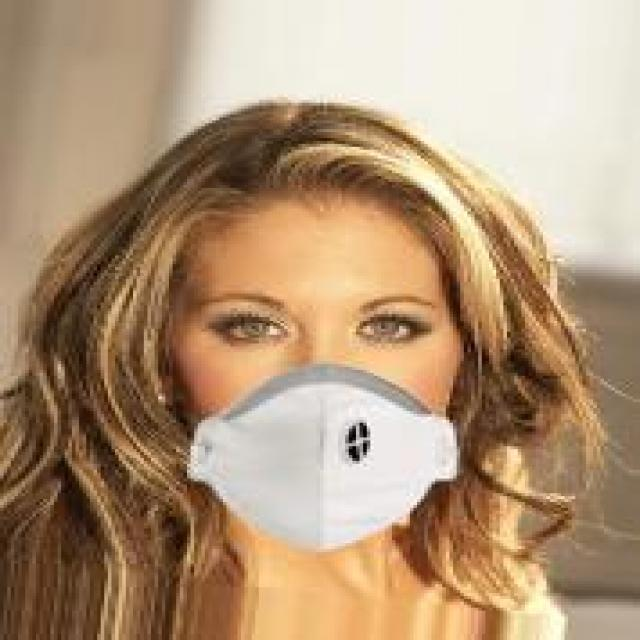mask: (126, 150, 536, 572)
